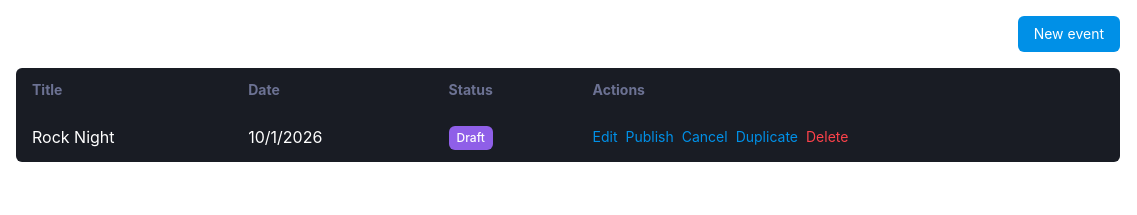
Scenario: EventList › GIVEN deletion fails WHEN the organizer confirms Delete THEN it shows an error and keeps the row
Expected: the number of rows with test id "event-row" is 1, [16, 112, 1120, 162]
Click the button "Delete" at (827, 137), box [806, 127, 848, 147]
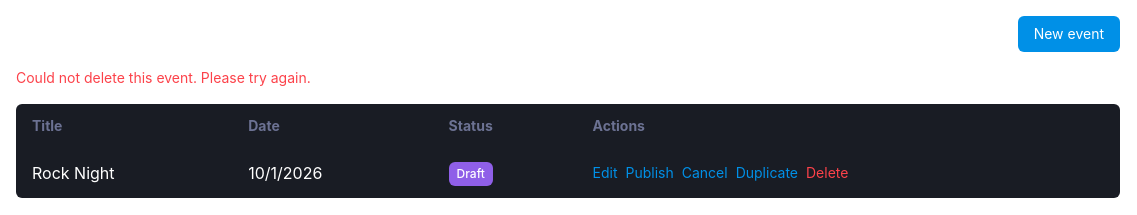
Expected: the number of rows with test id "event-row" is 1, [16, 148, 1120, 198]
Expected: the message shows "Could not delete this event", [16, 69, 311, 86]
